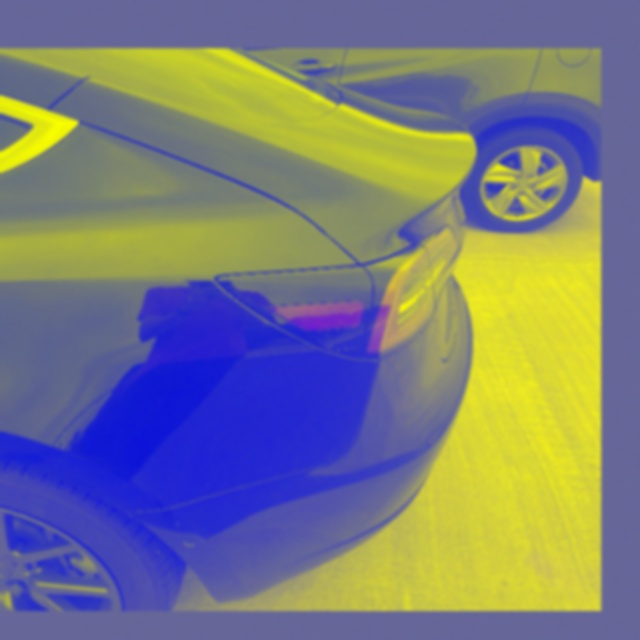reflector: (268, 299, 365, 331)
